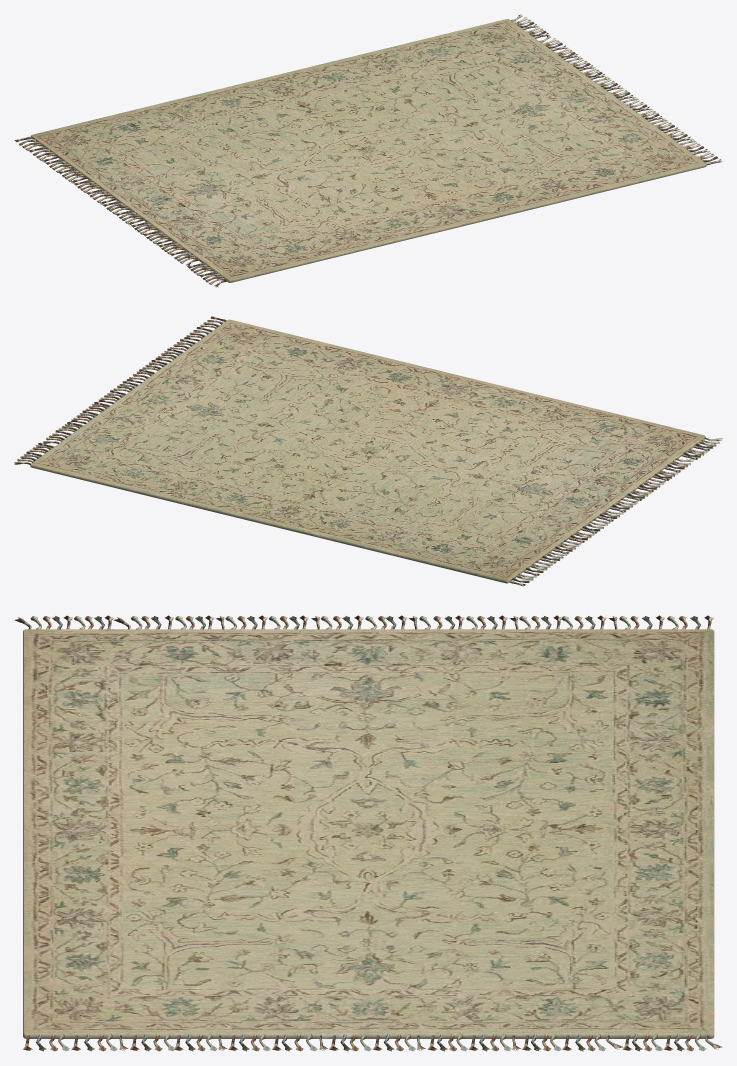
The model's file is abo-B0735WFBPL.glb.
The picture shows the model from 3 angles, top to bottom: view 1: azimuth 30°, elevation 25°; view 2: azimuth 150°, elevation 25°; view 3: azimuth 270°, elevation 25°; orthographic projection. The views are drawn at different scales.
Bounding box in the file's own units: 1.8 × 0.01 × 1.25.
1 material, 1 textured.
